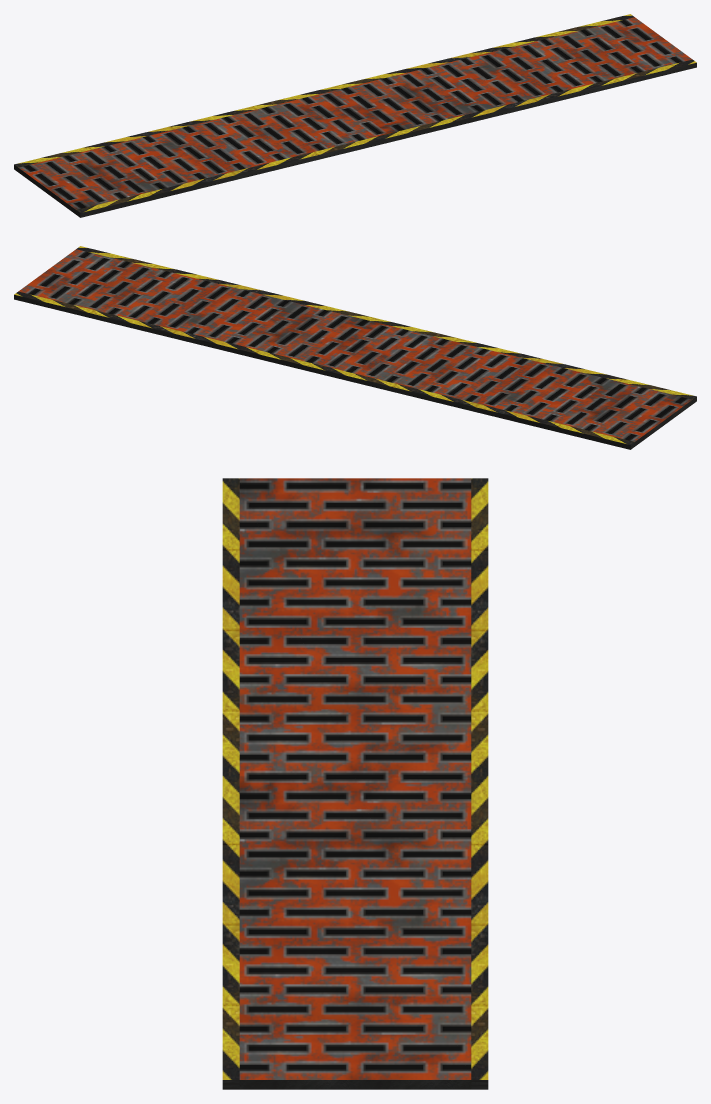
File: platform_01.FBX
The picture shows the model from 3 angles, top to bottom: view 1: azimuth 30°, elevation 25°; view 2: azimuth 150°, elevation 25°; view 3: azimuth 270°, elevation 25°; orthographic projection. The views are drawn at different scales.
Parts seen in each view (by area): view 1: rampa_01_1; view 2: rampa_01_1; view 3: rampa_01_1.
Part boxes in pixels (box(x1,y1,x2,y2)): rampa_01_1: box(14, 14, 696, 217); rampa_01_1: box(14, 246, 696, 449); rampa_01_1: box(222, 478, 488, 1089).
Size of the model in its own units: 1000 by 7.5 by 187.
